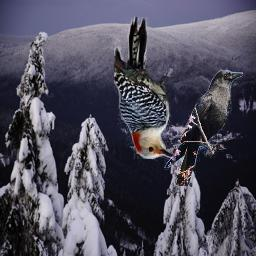Crow: (165, 68, 244, 186)
Woodpecker: (114, 17, 178, 159)
